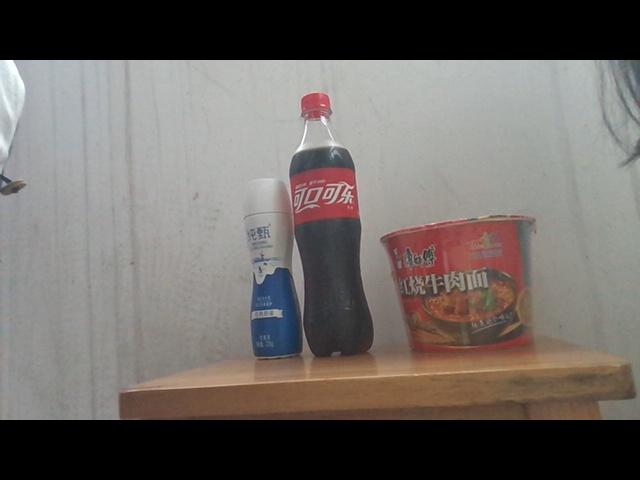cola: (290, 92, 376, 355)
kangshifu: (380, 214, 540, 352)
yogurt: (241, 177, 305, 362)
